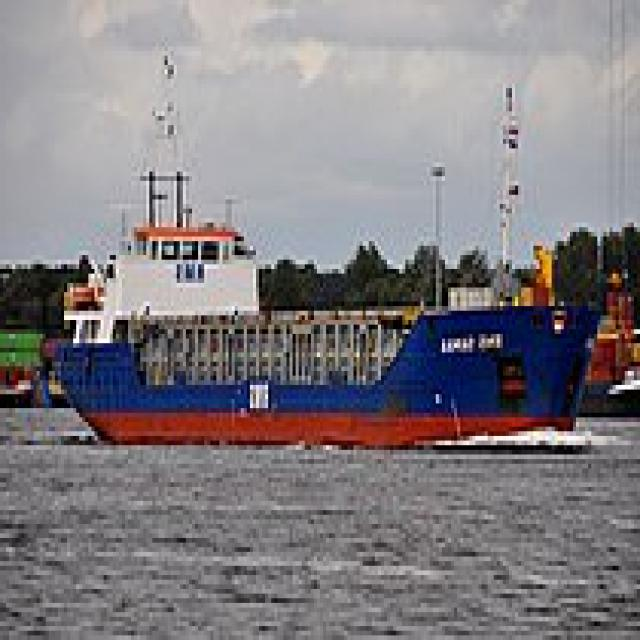Cargo: (55, 47, 609, 446)
